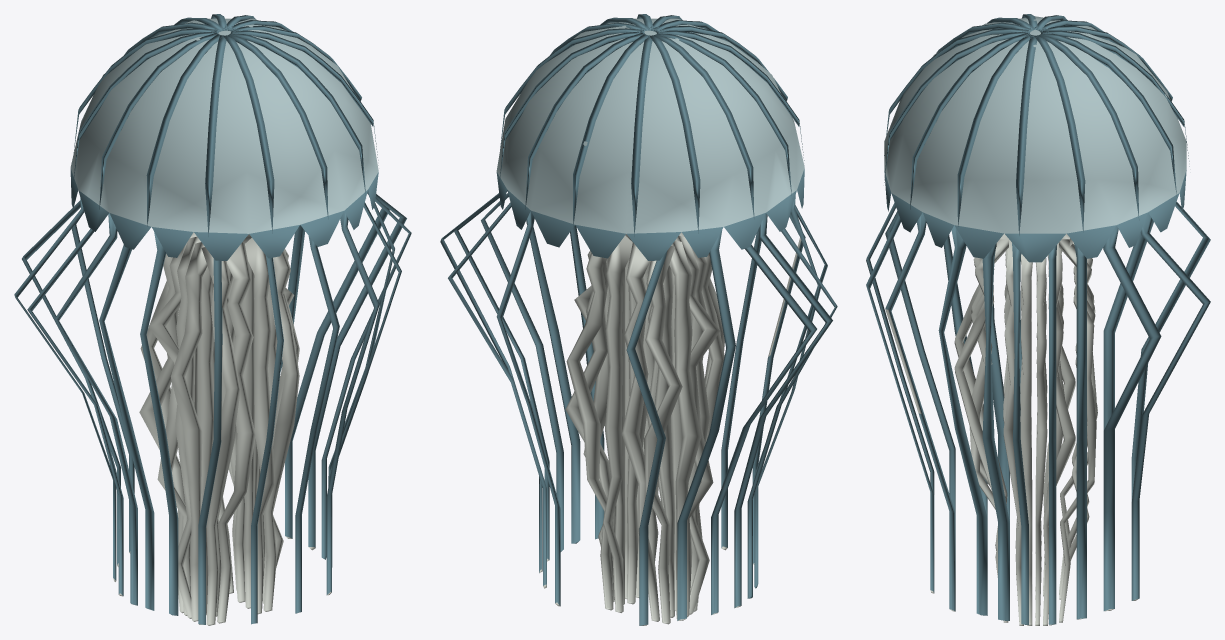
The model's file is jellyfish.glb.
The picture shows the model from 3 angles, left to right: view 1: azimuth 30°, elevation 25°; view 2: azimuth 150°, elevation 25°; view 3: azimuth 270°, elevation 25°; orthographic projection.
Visible parts, largest first — view 1: Null.1; view 2: Null.1; view 3: Null.1.
Boxes of the visible parts, x1,y1,x2,y2 form: Null.1: (14,14,411,625); Null.1: (440,14,837,625); Null.1: (866,14,1210,625).
Bounding box in the file's own units: 283 × 411 × 223.
